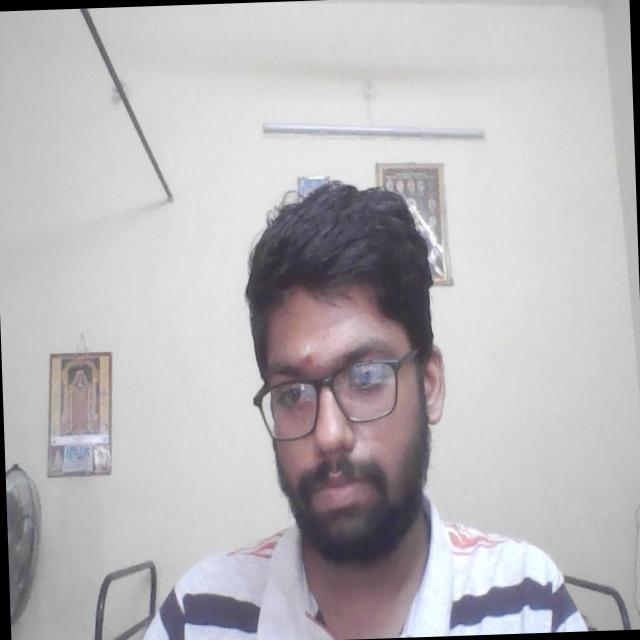Focused: (246, 298, 414, 529)
